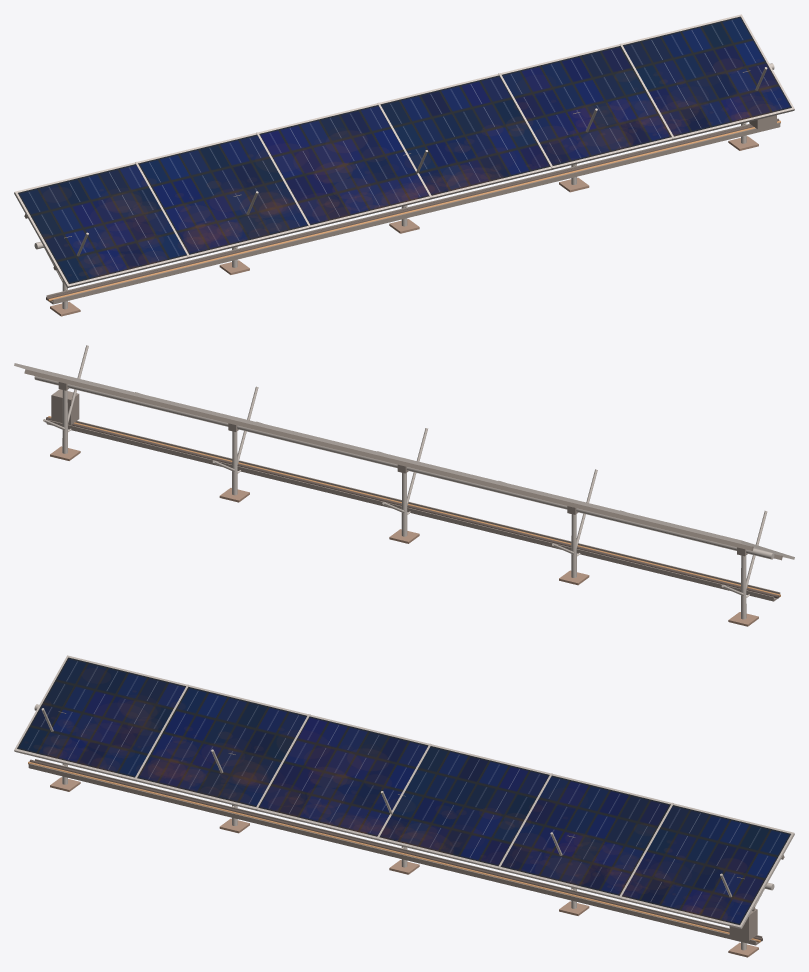
The model's file is E02_solar_row_15m.glb.
3 renders of one model, top to bottom at view 1: azimuth 30°, elevation 25°; view 2: azimuth 150°, elevation 25°; view 3: azimuth 330°, elevation 25°, orthographic.
Parts seen in each view (by area): view 1: solar_cells, tray_side (×2), panel_frame, cable (×2), cable_tray; view 2: tray_side (×2), purlin, cable (×2), panel_frame, torque_tube, inverter_box, cable_tray; view 3: solar_cells, panel_frame, tray_side (×2), cable (×2), cable_tray.
Part boxes in pixels (box(x1,y1,x2,y2)): solar_cells: box(18, 16, 791, 283); tray_side (×2): box(46, 122, 780, 304); panel_frame: box(14, 14, 794, 287); cable (×2): box(46, 118, 780, 301); cable_tray: box(47, 127, 779, 304); tray_side (×2): box(46, 419, 780, 601); purlin: box(24, 369, 753, 550); cable (×2): box(46, 416, 780, 598); panel_frame: box(14, 363, 794, 559); torque_tube: box(34, 376, 774, 559); inverter_box: box(51, 389, 79, 425); cable_tray: box(47, 424, 779, 601); solar_cells: box(17, 657, 790, 924); panel_frame: box(14, 655, 794, 928); tray_side (×2): box(28, 759, 762, 945); cable (×2): box(28, 759, 762, 942); cable_tray: box(29, 768, 761, 945).
Bounding box in the file's own units: 15.2 × 2.08 × 1.94.
6 materials, 1 textured.
